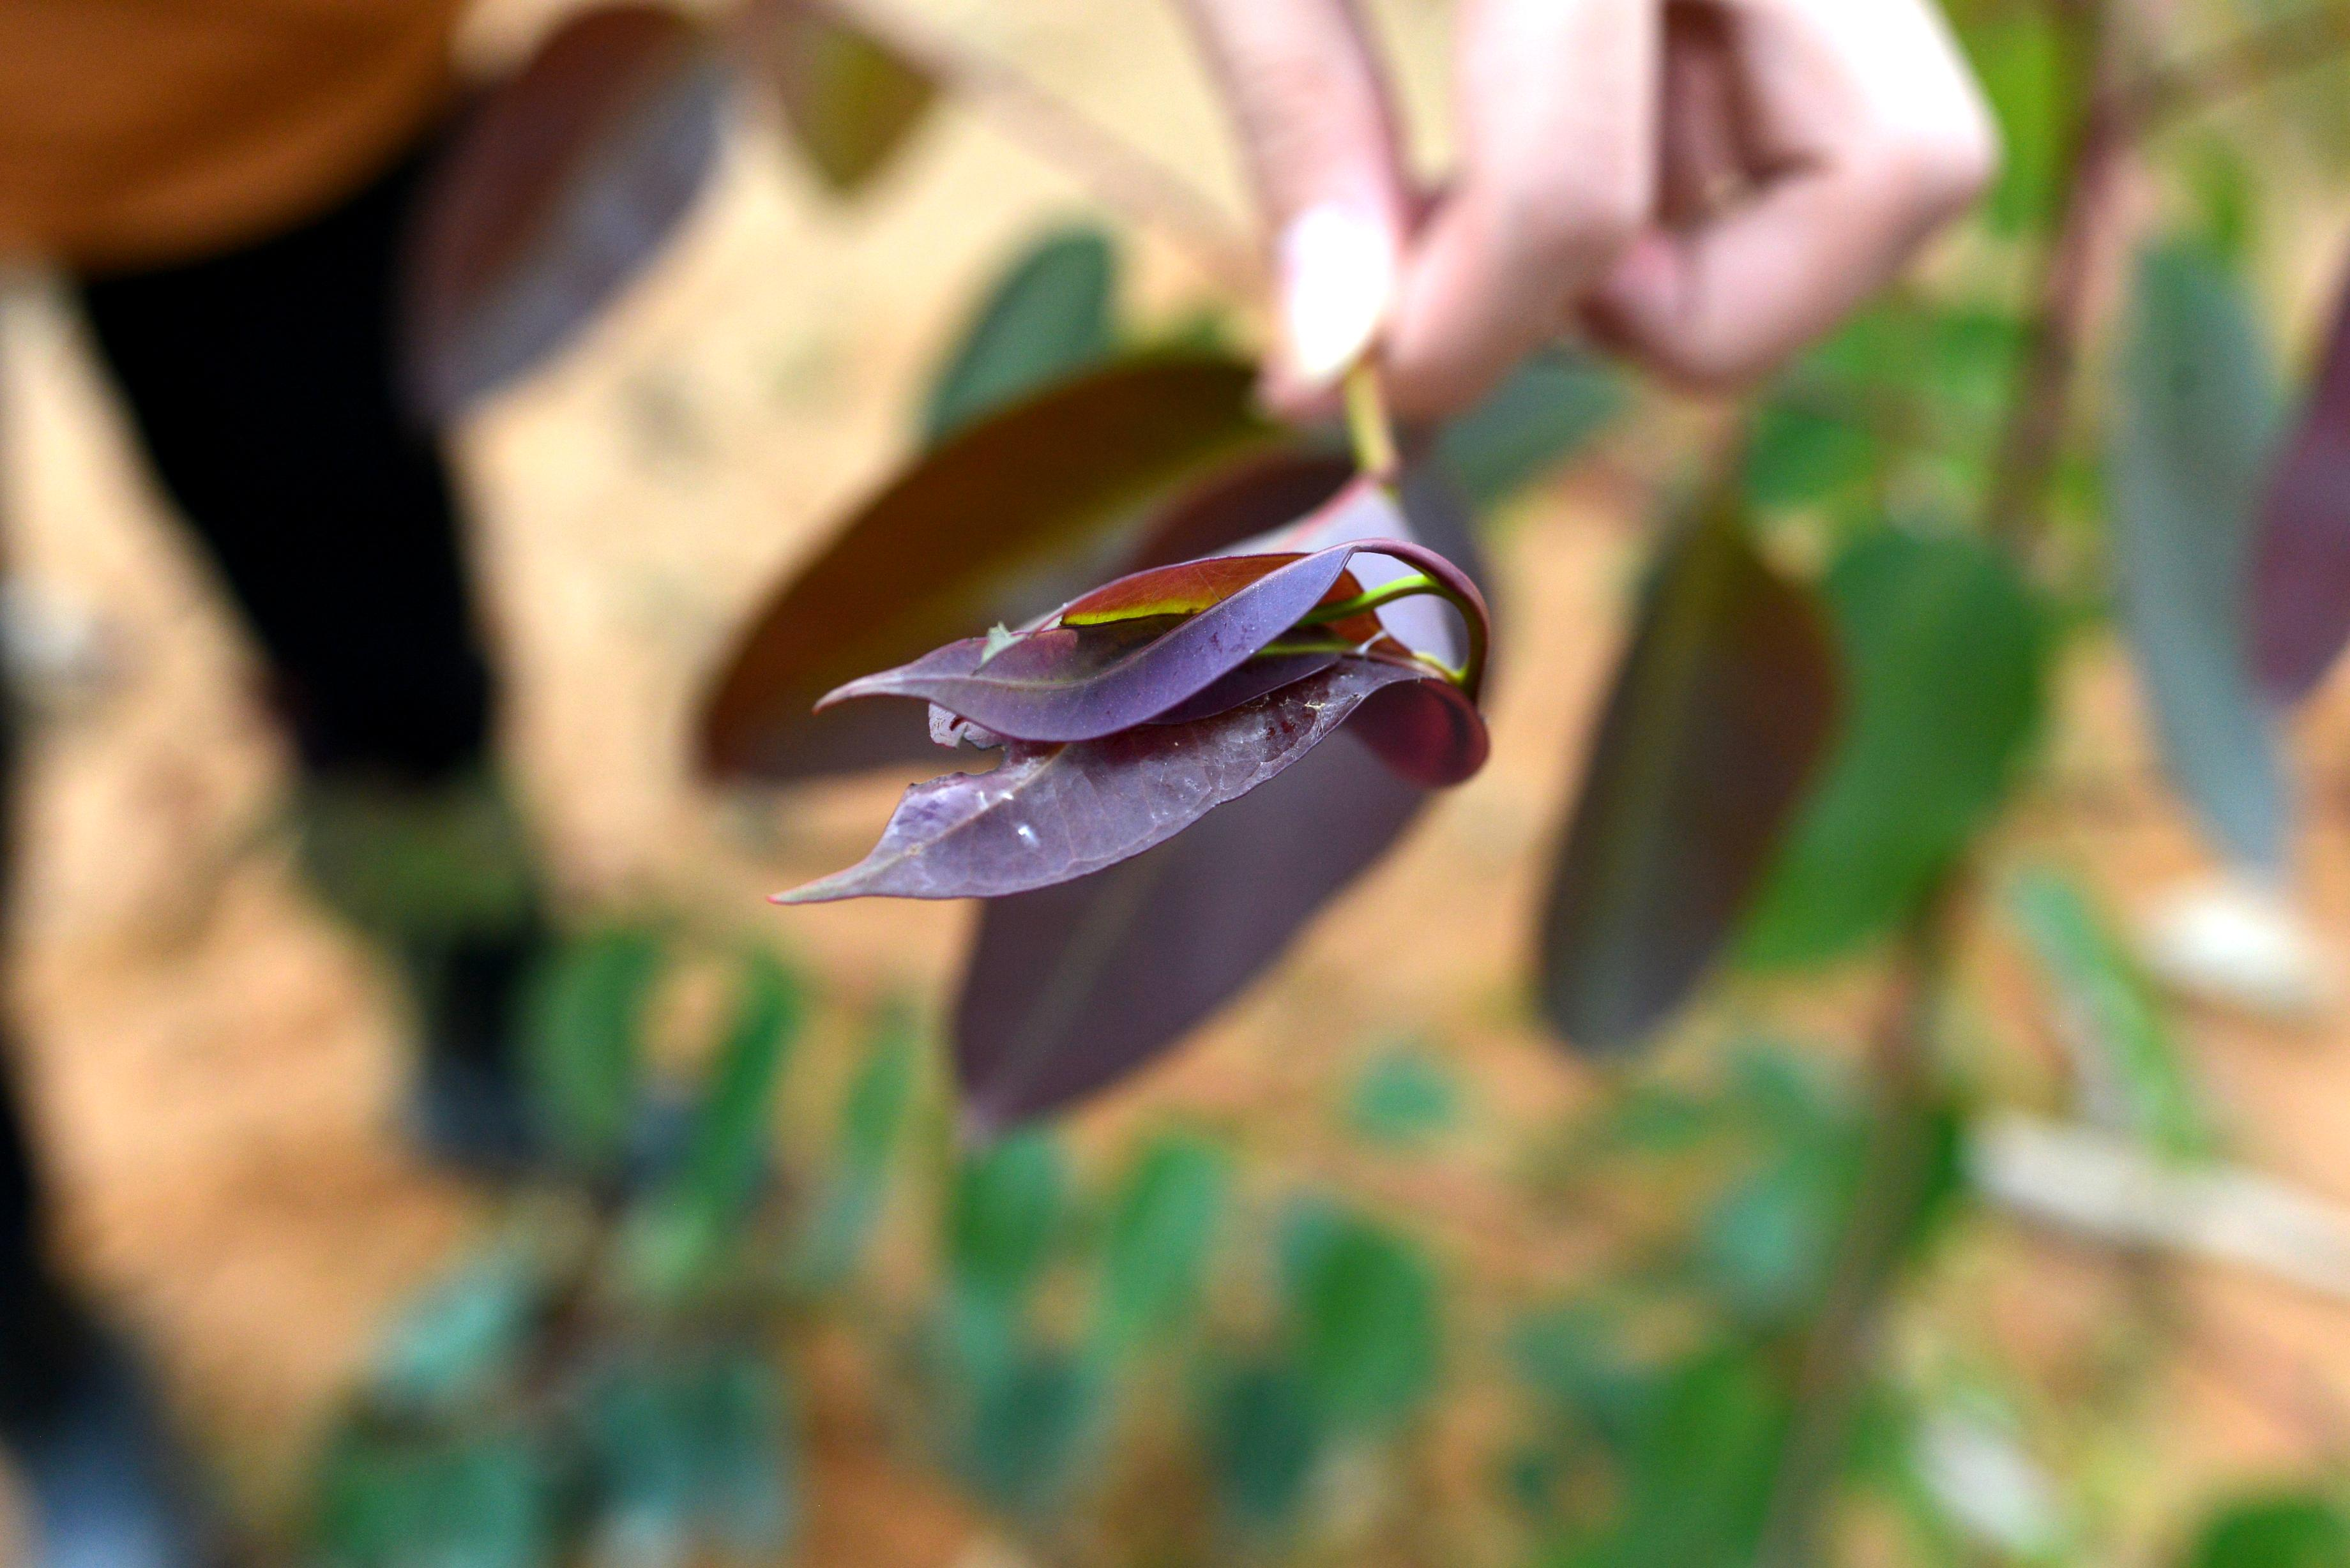Leaf Roller - Leaf: (756, 507, 1487, 961)
